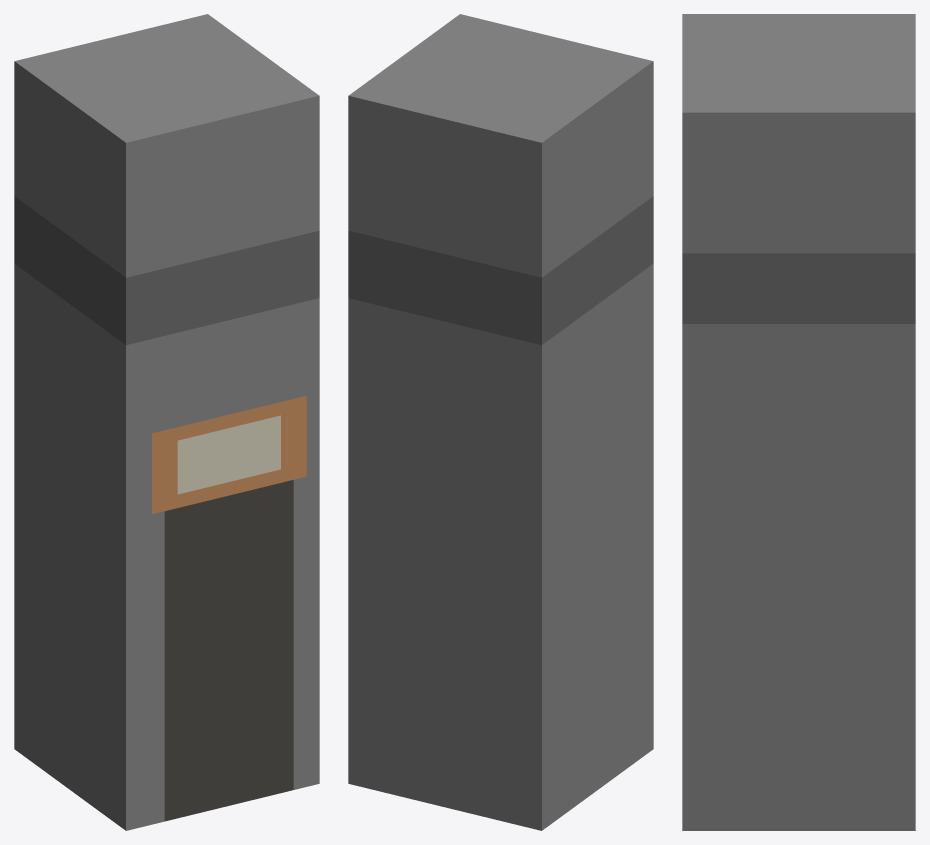
The model's file is chimenea_mica_01.glb.
3 views of the same model, side by side, from view 1: azimuth 30°, elevation 25°; view 2: azimuth 150°, elevation 25°; view 3: azimuth 270°, elevation 25° (orthographic). The views are drawn at different scales.
Visible parts, largest first — view 1: chimenea_mica; view 2: chimenea_mica; view 3: chimenea_mica.
Part boxes in pixels (x1,y1,x2,y2): chimenea_mica: (14,14,319,830); chimenea_mica: (348,14,653,830); chimenea_mica: (682,14,915,830).
Bounding box in the file's own units: 1 × 3.4 × 1.
